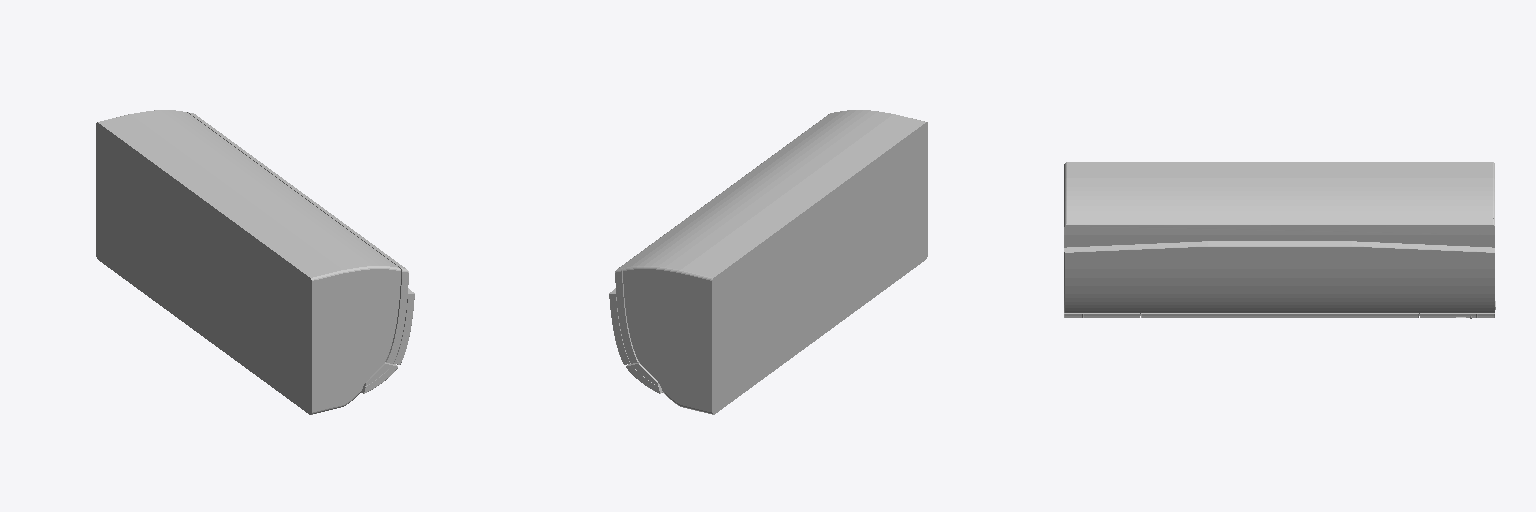
Rendered from Conditioner.obj.
The picture shows the model from 3 angles: view 1: azimuth 30°, elevation 25°; view 2: azimuth 150°, elevation 25°; view 3: azimuth 270°, elevation 25°; orthographic projection.
Bounding box in the file's own units: 9.19 × 11.57 × 32.91.